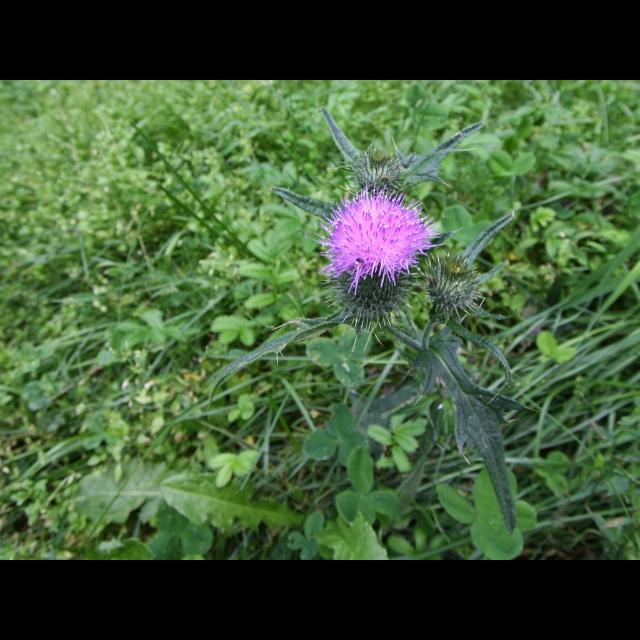Flower: (297, 150, 461, 304)
